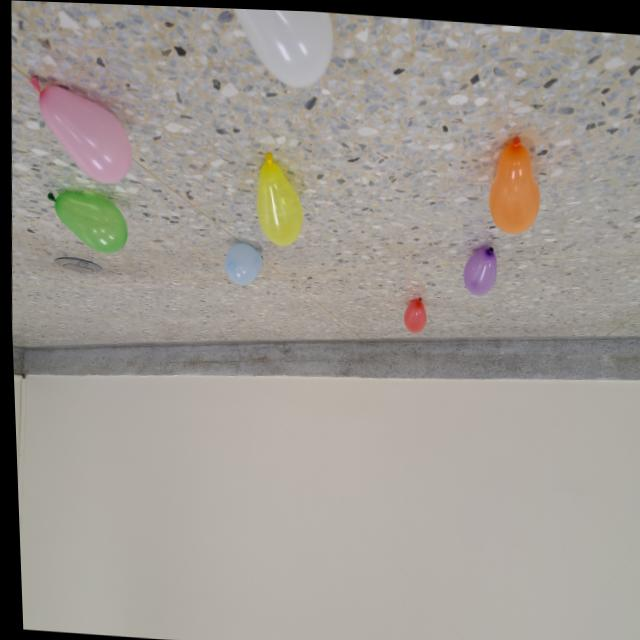other: (24, 75, 132, 185), (216, 6, 335, 87), (483, 128, 541, 233), (43, 190, 127, 253), (252, 151, 305, 246), (460, 240, 496, 293), (221, 239, 262, 284)
red: (398, 293, 424, 331)
